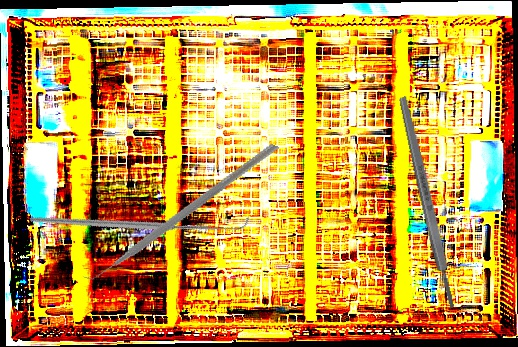Chopper: (72, 93, 280, 327)
Hook Surgical: (26, 116, 252, 324)
Scalpel Handle: (396, 95, 459, 310)
